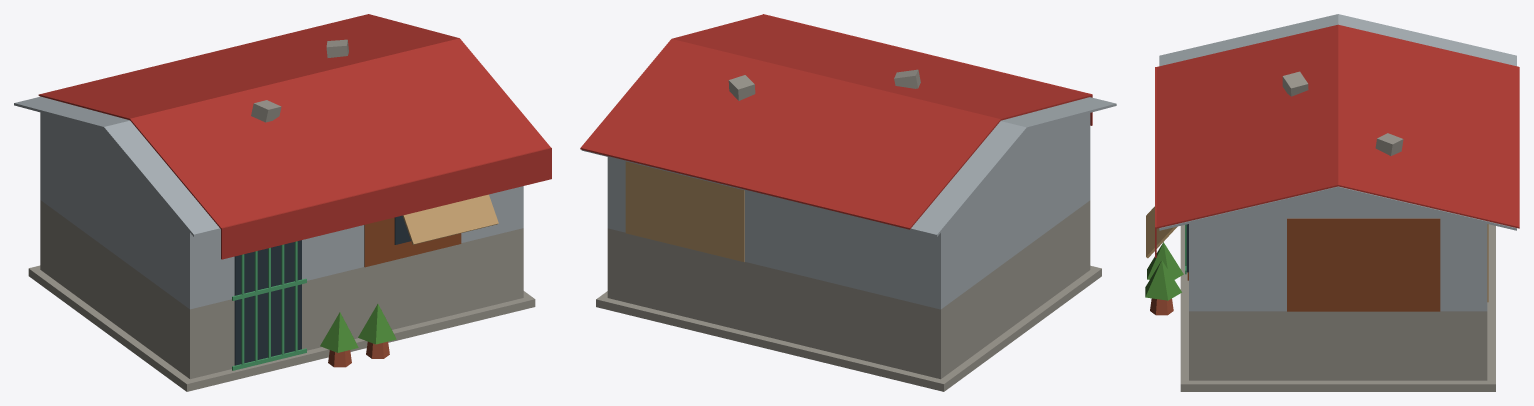
The model's file is BAY_I_TarpShack_I.glb.
3 renders of one model, left to right at view 1: azimuth 30°, elevation 25°; view 2: azimuth 150°, elevation 25°; view 3: azimuth 270°, elevation 25°, orthographic.
Parts seen in each view (by area): view 1: BAY_I_TarpShack_I; view 2: BAY_I_TarpShack_I; view 3: BAY_I_TarpShack_I.
Part boxes in pixels (<box>): BAY_I_TarpShack_I: <box>14,14,551,391</box>; BAY_I_TarpShack_I: <box>580,14,1116,391</box>; BAY_I_TarpShack_I: <box>1145,14,1519,391</box>.
Bounding box in the file's own units: 4.8 × 2.76 × 4.39.
1 material, 1 textured.
